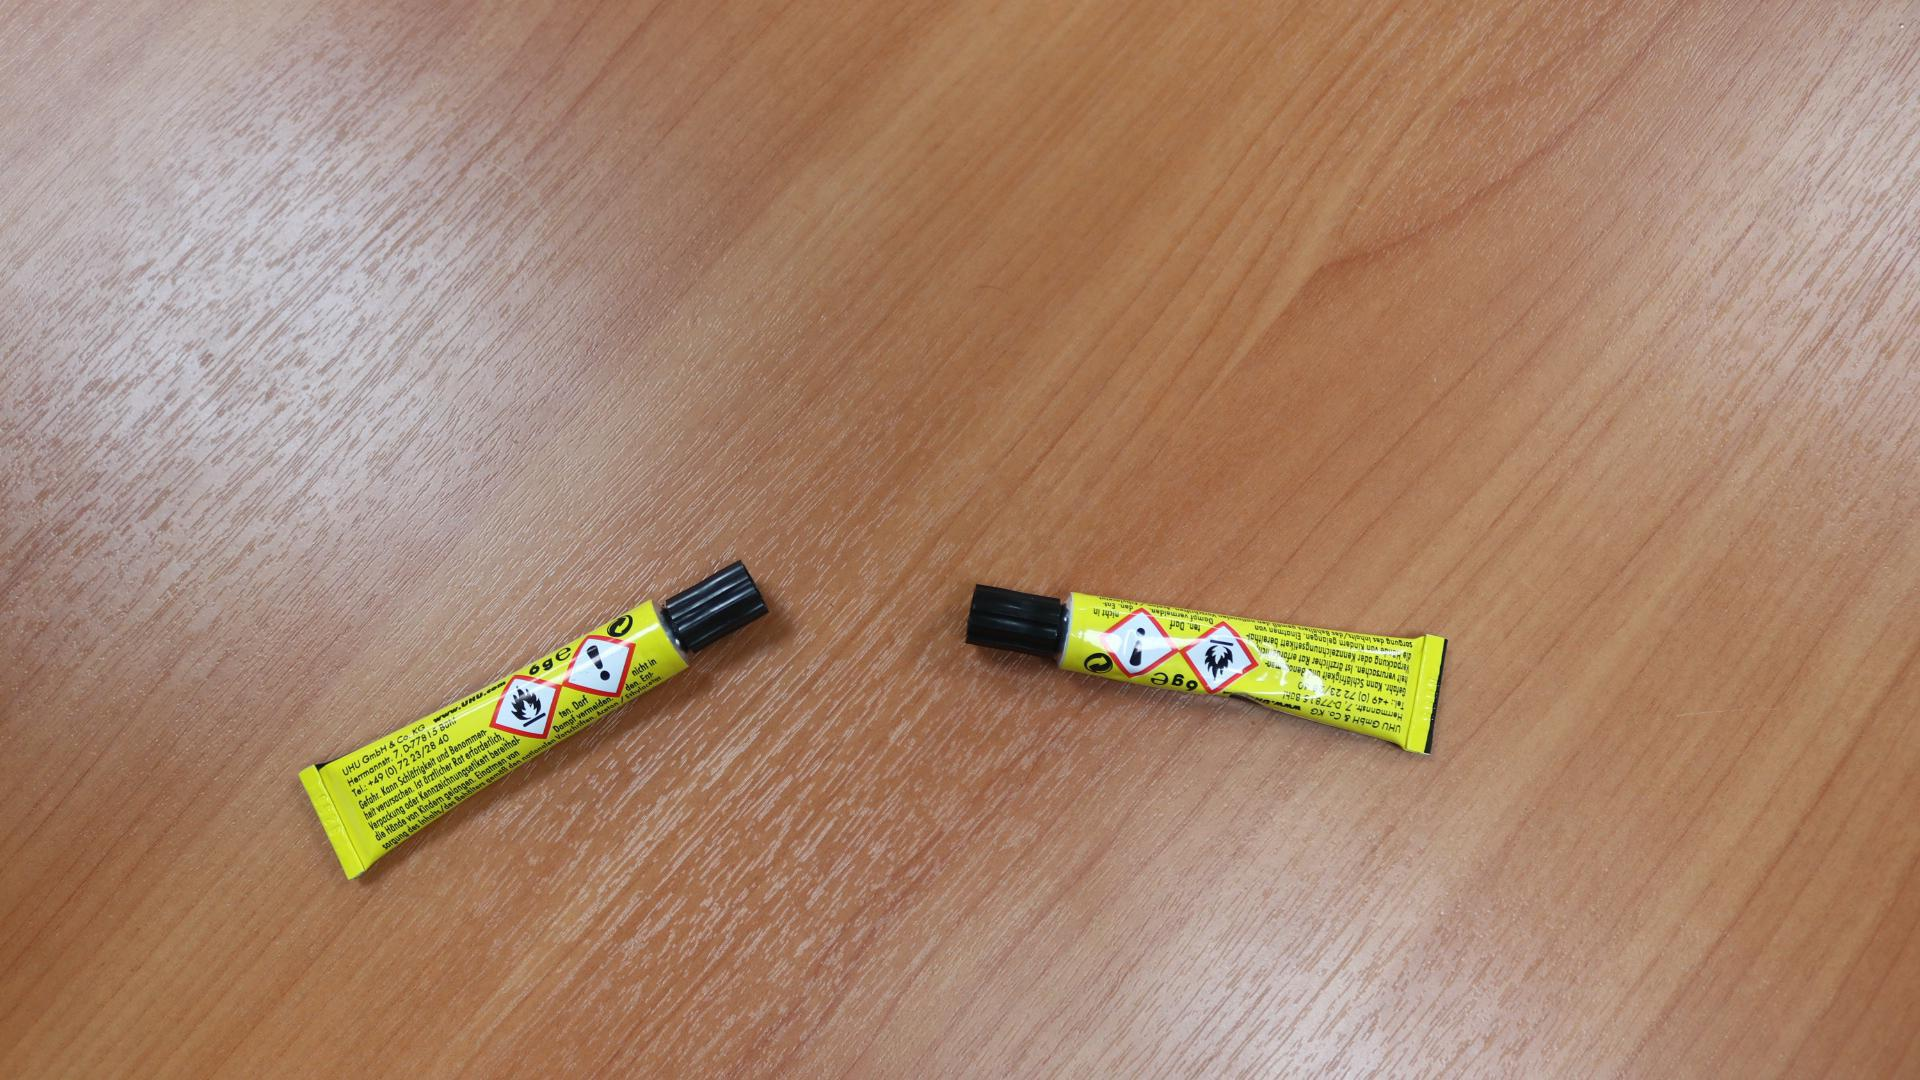Head: (709, 602, 723, 617), (1012, 615, 1021, 627)
Tail: (324, 814, 339, 831), (1421, 687, 1434, 704)
Tube: (298, 560, 769, 878), (963, 583, 1450, 759)
